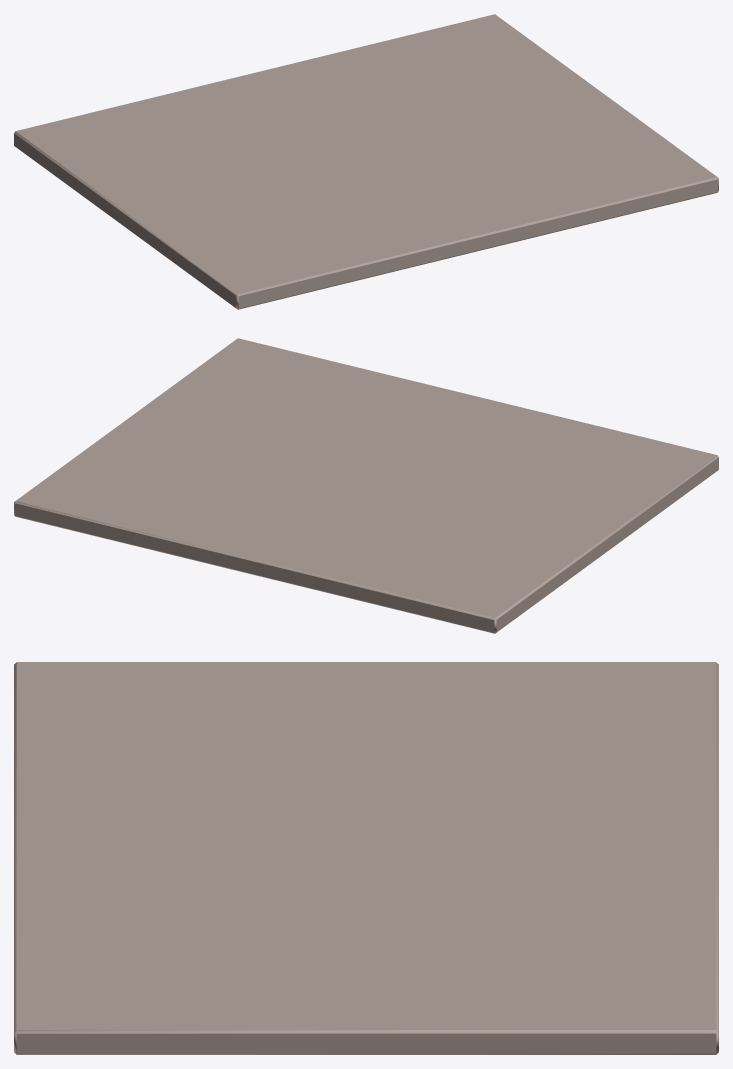
File: CandyHouse_Pink_Foundation.glb
3 views of the same model, one above another, from view 1: azimuth 30°, elevation 25°; view 2: azimuth 150°, elevation 25°; view 3: azimuth 270°, elevation 25° (orthographic). The views are drawn at different scales.
Visible parts, largest first — view 1: CandyHouse_Pink_Foundation; view 2: CandyHouse_Pink_Foundation; view 3: CandyHouse_Pink_Foundation.
Part boxes in pixels (left/top/right/bottom): CandyHouse_Pink_Foundation: left=14, top=14, right=718, bottom=309; CandyHouse_Pink_Foundation: left=14, top=338, right=718, bottom=633; CandyHouse_Pink_Foundation: left=14, top=662, right=718, bottom=1054.
Size of the model in its own units: 25.6 by 0.8 by 20.6.
